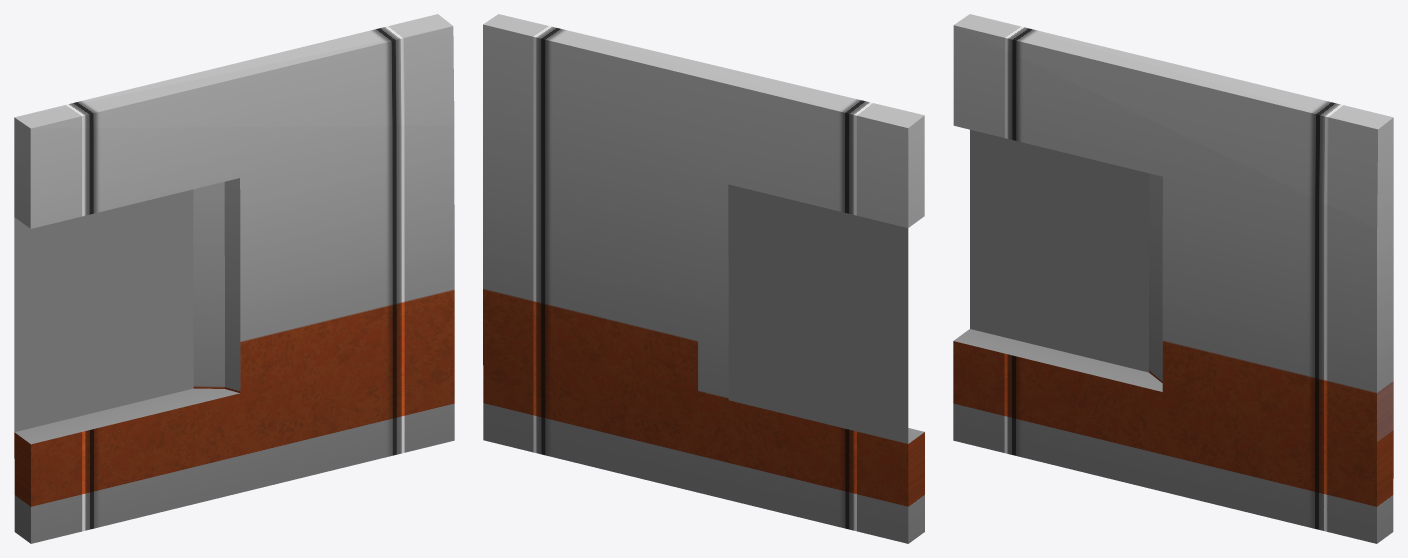
File: Wall Right V2.fbx
3 views of the same model, side by side, from view 1: azimuth 30°, elevation 25°; view 2: azimuth 150°, elevation 25°; view 3: azimuth 330°, elevation 25° (orthographic).
Visible parts, largest first — view 1: Door_Door_Door_Door_Window_Side1_Window_Side1_polySurface3; view 2: Door_Door_Door_Door_Window_Side1_Window_Side1_polySurface3; view 3: Door_Door_Door_Door_Window_Side1_Window_Side1_polySurface3.
Boxes of the visible parts, x1,y1,x2,y2 form: Door_Door_Door_Door_Window_Side1_Window_Side1_polySurface3: (14, 14, 454, 543); Door_Door_Door_Door_Window_Side1_Window_Side1_polySurface3: (483, 14, 924, 543); Door_Door_Door_Door_Window_Side1_Window_Side1_polySurface3: (953, 14, 1393, 543).
Bounding box in the file's own units: 1028 × 963 × 70.41.
